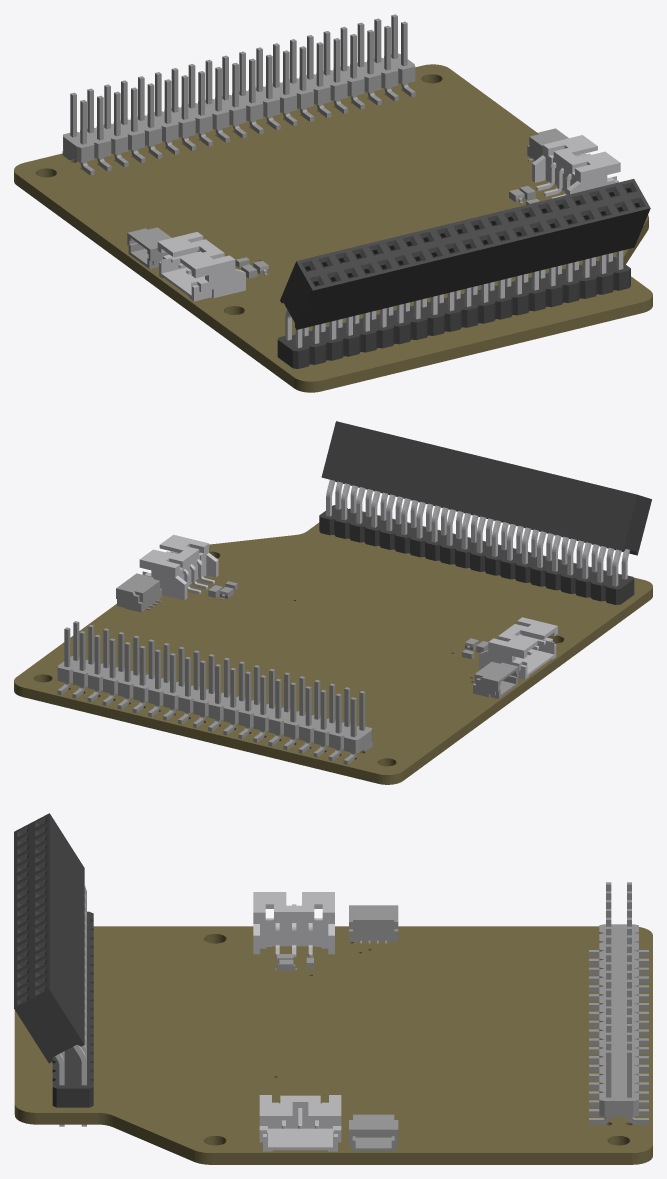
The model's file is ada-4863.glb.
3 renders of one model, top to bottom at view 1: azimuth 30°, elevation 25°; view 2: azimuth 150°, elevation 25°; view 3: azimuth 270°, elevation 25°, orthographic. The views are drawn at different scales.
Parts seen in each view (by area): view 1: 0.16666666666666666_0.16666666666666666_0.08333333333333333_, 0.08333333333333333_0.08333333333333333_0.08333333333333333_, 0.3333333333333333_0.3333333333333333_0.3333333333333333_0, 0.5833333333333334_0.5833333333333334_0.5833333333333334_0.8; view 2: 0.16666666666666666_0.16666666666666666_0.08333333333333333_, 0.08333333333333333_0.08333333333333333_0.08333333333333333_, 0.3333333333333333_0.3333333333333333_0.3333333333333333_0, 0.5833333333333334_0.5833333333333334_0.5833333333333334_0.8; view 3: 0.16666666666666666_0.16666666666666666_0.08333333333333333_, 0.08333333333333333_0.08333333333333333_0.08333333333333333_, 0.3333333333333333_0.3333333333333333_0.3333333333333333_0, 0.5833333333333334_0.5833333333333334_0.5833333333333334_0.8.
Part boxes in pixels (<box>): 0.16666666666666666_0.16666666666666666_0.08333333333333333_: <box>14,64,652,392</box>; 0.08333333333333333_0.08333333333333333_0.08333333333333333_: <box>277,179,650,368</box>; 0.3333333333333333_0.3333333333333333_0.3333333333333333_0: <box>62,14,568,278</box>; 0.5833333333333334_0.5833333333333334_0.5833333333333334_0.8: <box>157,135,623,348</box>; 0.16666666666666666_0.16666666666666666_0.08333333333333333_: <box>14,511,652,784</box>; 0.08333333333333333_0.08333333333333333_0.08333333333333333_: <box>319,421,651,604</box>; 0.3333333333333333_0.3333333333333333_0.3333333333333333_0: <box>57,573,518,764</box>; 0.5833333333333334_0.5833333333333334_0.5833333333333334_0.8: <box>139,479,629,679</box>; 0.16666666666666666_0.16666666666666666_0.08333333333333333_: <box>14,926,652,1164</box>; 0.08333333333333333_0.08333333333333333_0.08333333333333333_: <box>14,813,93,1107</box>; 0.3333333333333333_0.3333333333333333_0.3333333333333333_0: <box>275,882,648,1151</box>; 0.5833333333333334_0.5833333333333334_0.5833333333333334_0.8: <box>55,885,341,1151</box>.
Bounding box in the file's own units: 6.51 × 1.88 × 7.76.
